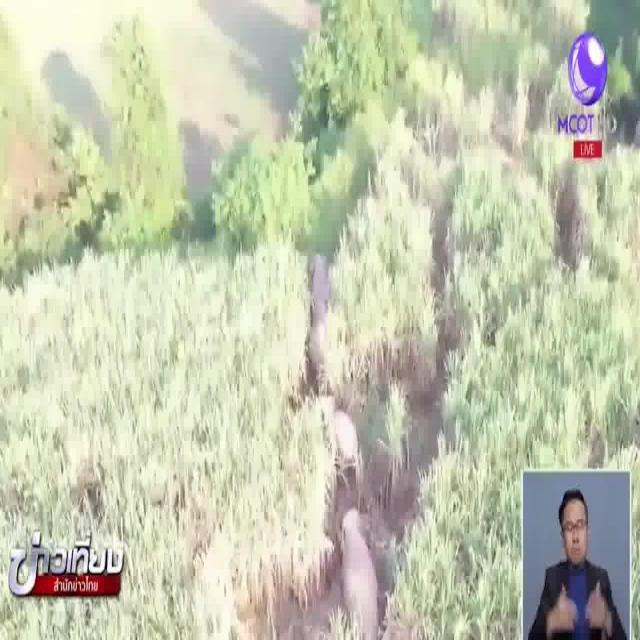Elephant: (340, 505, 382, 625), (327, 402, 359, 466), (306, 248, 333, 319), (308, 323, 330, 368)
